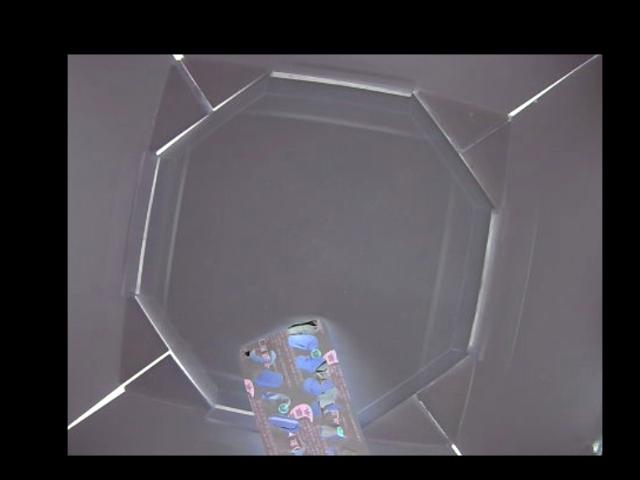Medicine: (238, 317, 366, 455)
